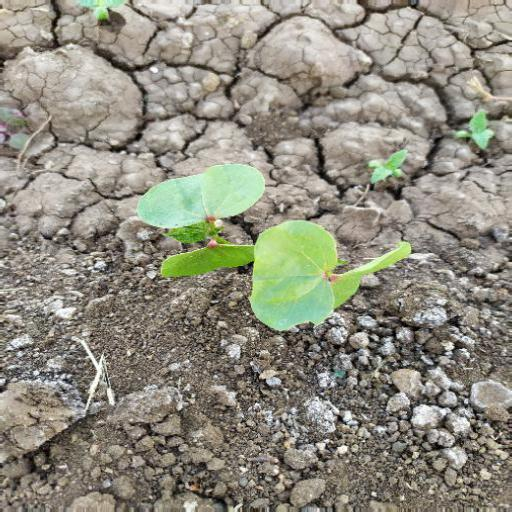weed: (142, 166, 406, 333)
